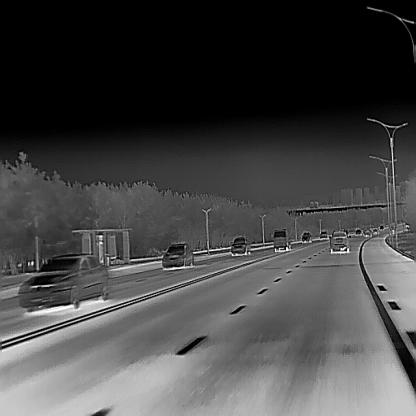car: (17, 252, 110, 309), (161, 242, 193, 267), (328, 228, 350, 251), (230, 235, 250, 254), (301, 231, 311, 242), (319, 228, 328, 238), (363, 228, 371, 236), (355, 228, 361, 234), (372, 228, 378, 233), (379, 224, 382, 228)
truck: (272, 228, 290, 250)
